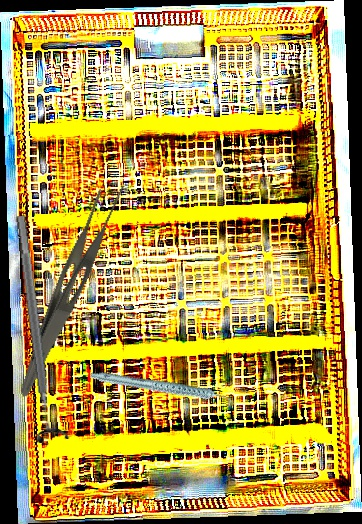Dressing Forceps: (16, 173, 130, 407)
Fixation Ring: (3, 213, 71, 444)
Handpiece: (89, 343, 236, 435)
